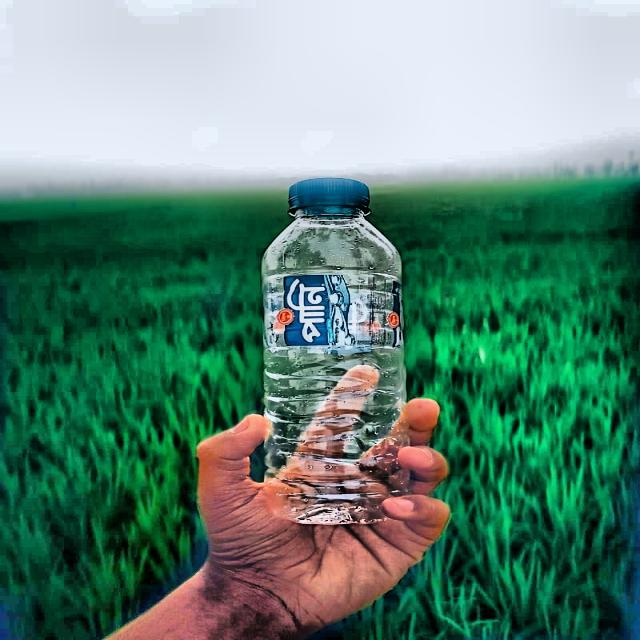Bottles: (238, 168, 426, 529)
